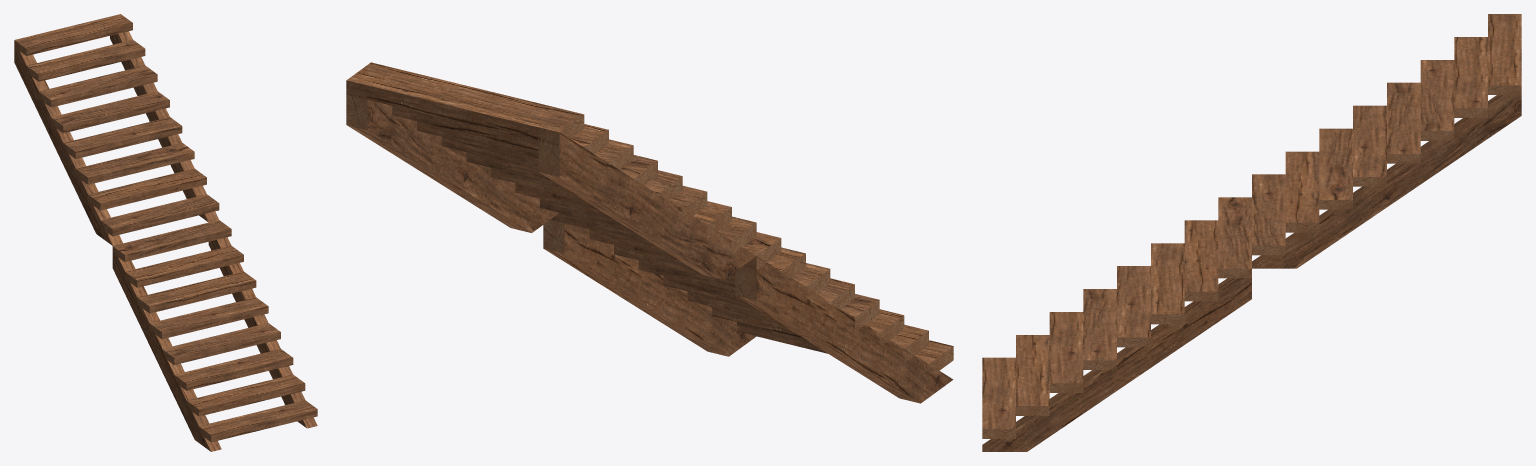
File: W22_FullStoreyStair_1.25Wx3Hx4D.fbx
3 views of the same model, side by side, from view 1: azimuth 30°, elevation 25°; view 2: azimuth 150°, elevation 25°; view 3: azimuth 270°, elevation 25° (orthographic). The views are drawn at different scales.
Visible parts, largest first — view 1: StairKit_W22_Export; view 2: StairKit_W22_Export; view 3: StairKit_W22_Export.
Boxes of the visible parts, x1,y1,x2,y2 form: StairKit_W22_Export: [14, 14, 317, 451]; StairKit_W22_Export: [346, 62, 953, 403]; StairKit_W22_Export: [982, 14, 1521, 451].
Size of the model in its own units: 1.25 by 3 by 4.
